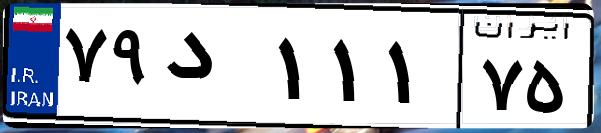1: (270, 28, 330, 110), (385, 28, 445, 110), (330, 28, 385, 110)
5: (525, 38, 570, 115)
7: (57, 26, 110, 100), (475, 38, 525, 113)
9: (110, 28, 158, 98)
د: (158, 20, 270, 120)
